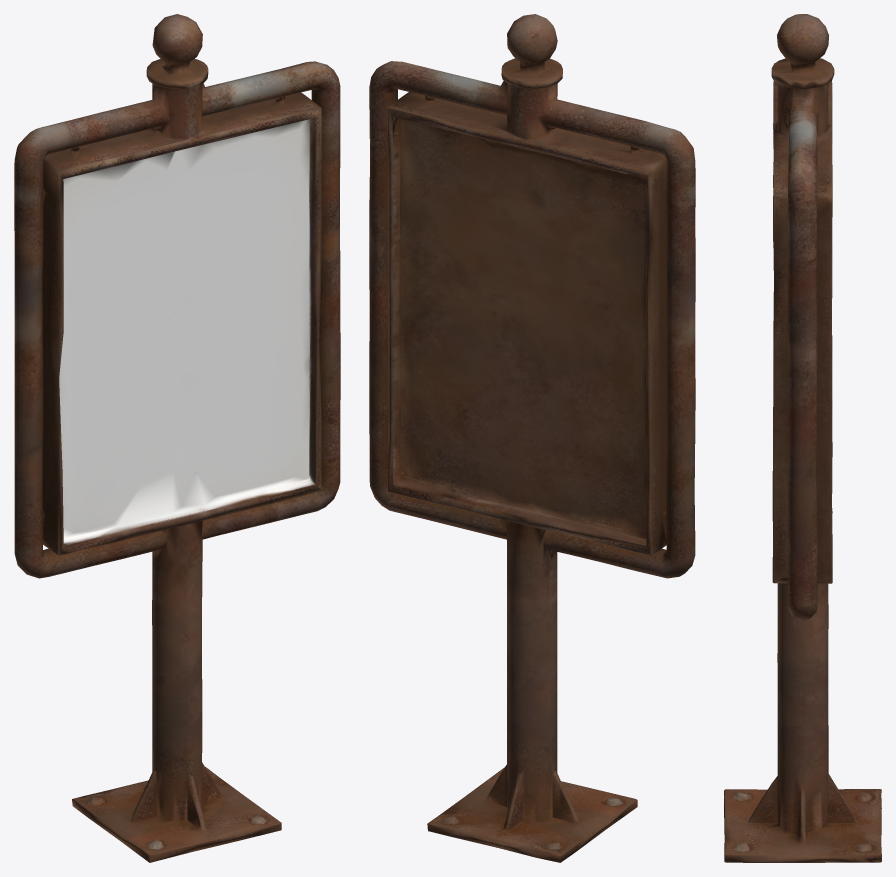
Rendered from banner2.glb.
The picture shows the model from 3 angles, left to right: view 1: azimuth 30°, elevation 25°; view 2: azimuth 150°, elevation 25°; view 3: azimuth 270°, elevation 25°; orthographic projection.
Parts seen in each view (by area): view 1: tripo_node_62e2bb12-271b-454c-979f-fc948d073f69; view 2: tripo_node_62e2bb12-271b-454c-979f-fc948d073f69; view 3: tripo_node_62e2bb12-271b-454c-979f-fc948d073f69.
Boxes of the visible parts, <box> form: tripo_node_62e2bb12-271b-454c-979f-fc948d073f69: <box>14,14,340,862</box>; tripo_node_62e2bb12-271b-454c-979f-fc948d073f69: <box>369,14,695,862</box>; tripo_node_62e2bb12-271b-454c-979f-fc948d073f69: <box>724,14,881,862</box>.
Bounding box in the file's own units: 0.4203 × 1 × 0.1755.
1 material, 1 textured.
